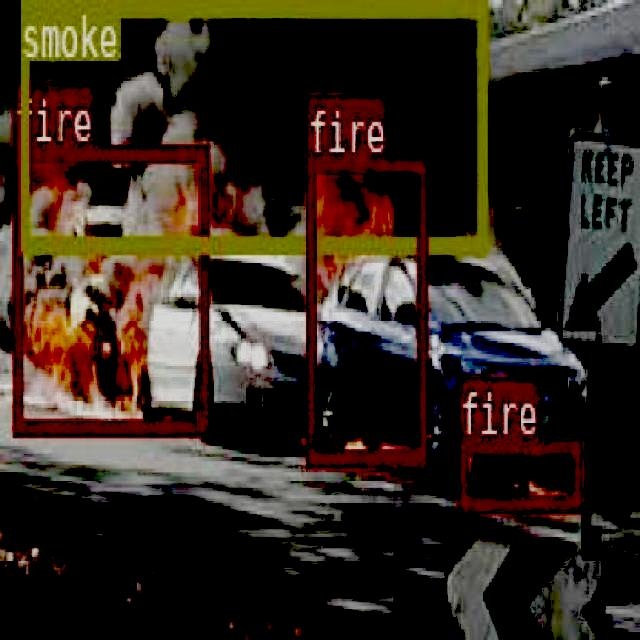fire: (11, 143, 208, 432), (304, 154, 426, 463), (458, 438, 580, 510)
smoke: (17, 0, 485, 248)
